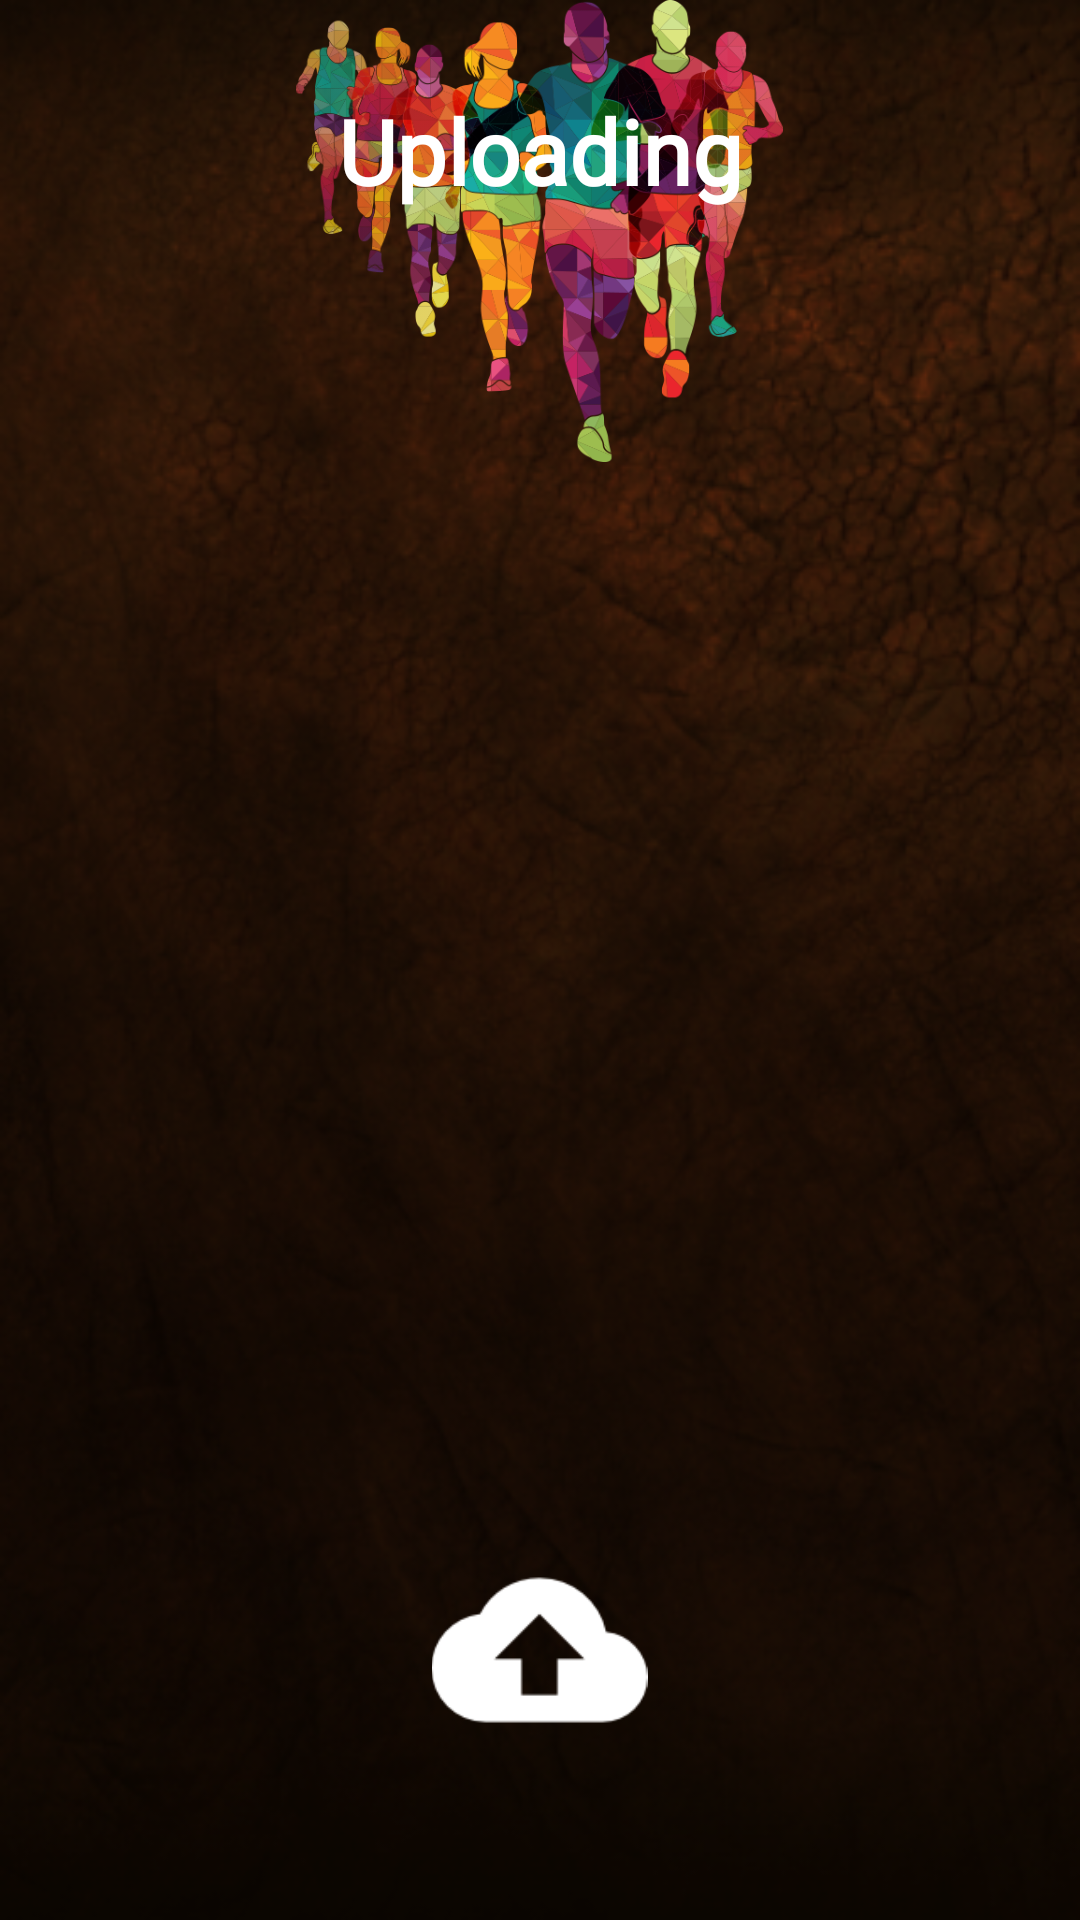

Named icons in this screenshot (1080px x 1920px) and their bounding boxes, (x1, y1, x2, y2):
upload: (432, 1577, 648, 1723)
